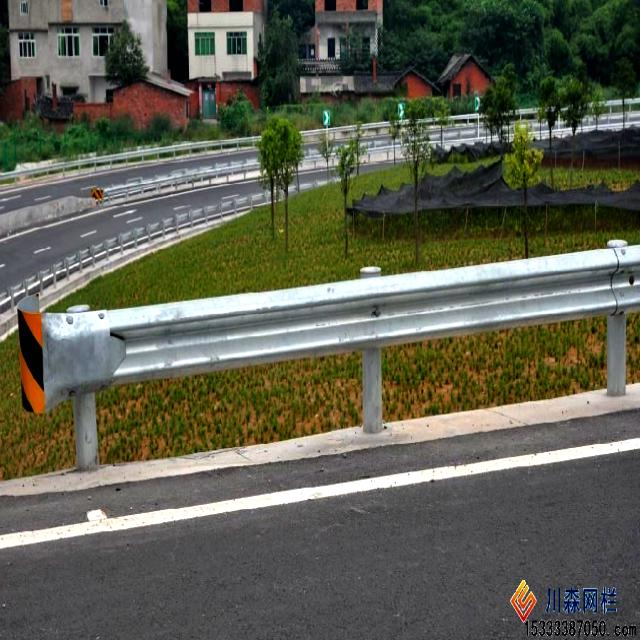Guard rail: (21, 246, 640, 411), (0, 192, 266, 311), (0, 136, 260, 183), (104, 158, 260, 203)
